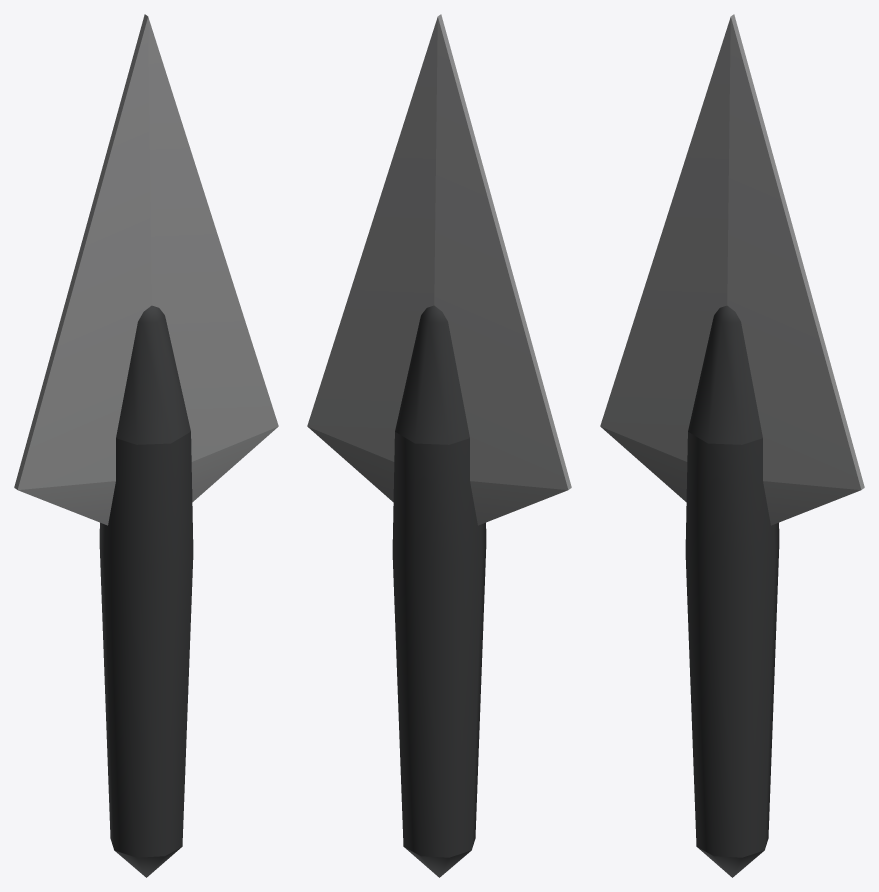
The model's file is Sword_RHand_3.fbx.
3 views of the same model, side by side, from view 1: azimuth 30°, elevation 25°; view 2: azimuth 150°, elevation 25°; view 3: azimuth 330°, elevation 25° (orthographic).
Parts seen in each view (by area): view 1: Sword_RHand_3; view 2: Sword_RHand_3; view 3: Sword_RHand_3.
Boxes of the visible parts, x1=… form: Sword_RHand_3: x1=14, y1=14, x2=278, y2=877; Sword_RHand_3: x1=307, y1=14, x2=571, y2=877; Sword_RHand_3: x1=600, y1=14, x2=864, y2=877.
Bounding box in the file's own units: 20.43 × 64.47 × 6.66.
